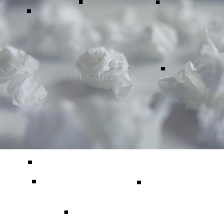tissue: (150, 23, 223, 117), (0, 38, 52, 116), (69, 41, 137, 98)
